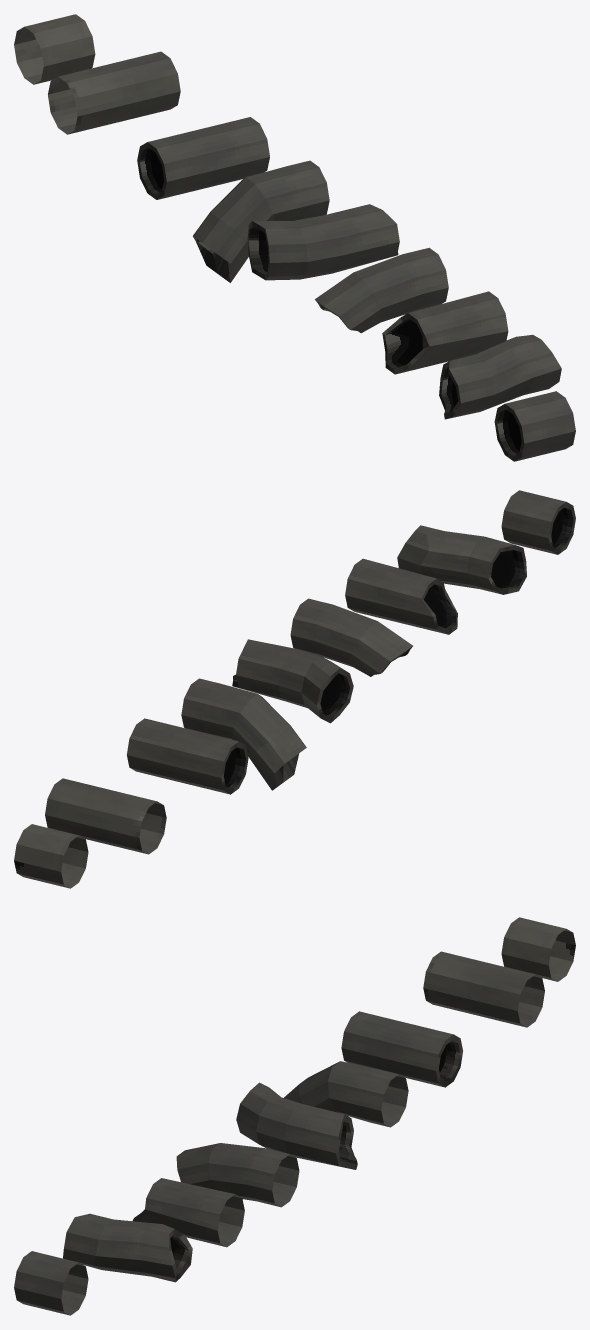
3 renders of one model, top to bottom at view 1: azimuth 30°, elevation 25°; view 2: azimuth 150°, elevation 25°; view 3: azimuth 330°, elevation 25°, orthographic. The views are drawn at different scales.
Parts seen in each view (by area): view 1: Tube.005, Tube.004, Tube.002, Tube.003, Tube.007, Tube.006, Tube.008, Tube.009, Tube.001; view 2: Tube.004, Tube.003, Tube.002, Tube.008, Tube.005, Tube.007, Tube.006, Tube.001, Tube.009; view 3: Tube.008, Tube.002, Tube.005, Tube.003, Tube.006, Tube.004, Tube.007, Tube.009, Tube.001.
Part boxes in pixels (<box>): Tube.005: <box>247,204,399,280</box>; Tube.004: <box>193,160,329,282</box>; Tube.002: <box>48,51,180,134</box>; Tube.003: <box>137,117,269,199</box>; Tube.007: <box>382,291,508,374</box>; Tube.006: <box>315,247,448,333</box>; Tube.008: <box>439,334,561,419</box>; Tube.009: <box>494,391,575,461</box>; Tube.001: <box>14,14,95,84</box>; Tube.004: <box>181,678,306,790</box>; Tube.003: <box>127,718,248,794</box>; Tube.002: <box>45,778,166,854</box>; Tube.008: <box>397,525,526,594</box>; Tube.005: <box>232,639,353,723</box>; Tube.007: <box>345,558,457,634</box>; Tube.006: <box>290,598,412,676</box>; Tube.001: <box>14,824,88,888</box>; Tube.009: <box>501,490,575,554</box>; Tube.008: <box>63,1213,192,1282</box>; Tube.002: <box>423,951,544,1027</box>; Tube.005: <box>236,1082,357,1169</box>; Tube.003: <box>341,1011,462,1087</box>; Tube.006: <box>176,1143,299,1207</box>; Tube.004: <box>284,1061,408,1127</box>; Tube.007: <box>132,1178,244,1247</box>; Tube.009: <box>14,1251,88,1315</box>; Tube.001: <box>501,917,575,981</box>.
Size of the model in its own units: 2.67 by 1.74 by 18.
Materials: 2 (2 with a texture image).
